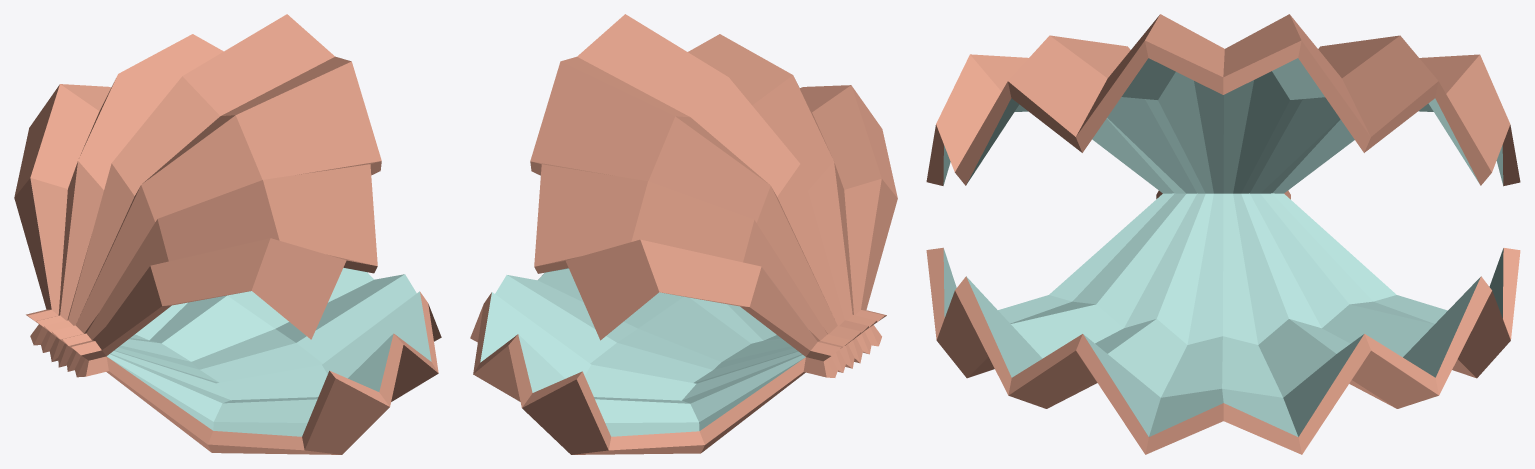
The model's file is BigClam.fbx.
3 views of the same model, side by side, from view 1: azimuth 30°, elevation 25°; view 2: azimuth 150°, elevation 25°; view 3: azimuth 270°, elevation 25° (orthographic). The views are drawn at different scales.
Visible parts, largest first — view 1: Object015; view 2: Object015; view 3: Object015.
Part boxes in pixels (x1,y1,x2,y2): Object015: (14,14,441,454); Object015: (470,14,897,454); Object015: (926,14,1520,454).
Size of the model in its own units: 130 by 117 by 152.
1 material, 1 textured.
